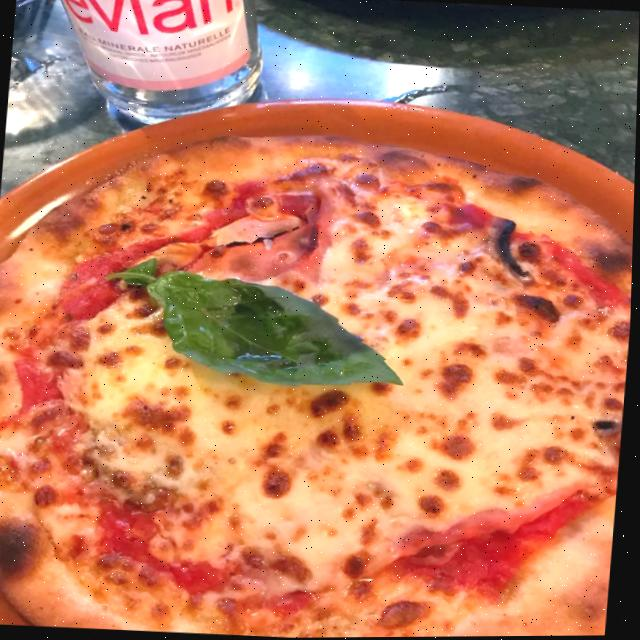basil: (97, 263, 418, 395), (117, 252, 160, 292)
pizza: (0, 113, 637, 640)
